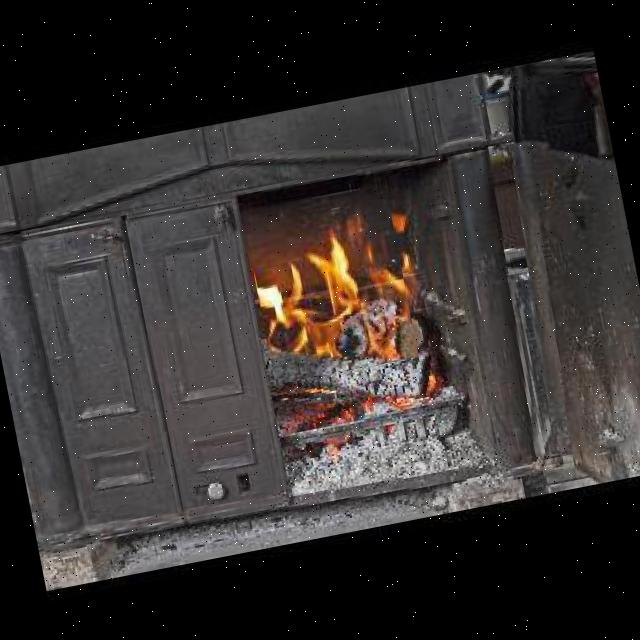fire: (244, 198, 418, 384)
